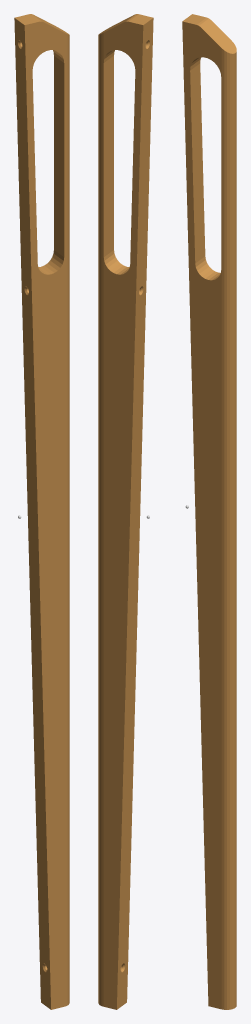
File: pvd gold 175.glb
3 views of the same model, side by side, from view 1: azimuth 30°, elevation 25°; view 2: azimuth 150°, elevation 25°; view 3: azimuth 330°, elevation 25° (orthographic).
Parts seen in each view (by area): view 1: CABINET_HANDLE_175; view 2: CABINET_HANDLE_175; view 3: CABINET_HANDLE_175.
Part boxes in pixels (x1,y1,x2,y2): CABINET_HANDLE_175: [14, 14, 69, 1009]; CABINET_HANDLE_175: [98, 14, 153, 1009]; CABINET_HANDLE_175: [182, 14, 236, 1009].
Size of the model in its own units: 0.9888 by 18.67 by 0.35.
